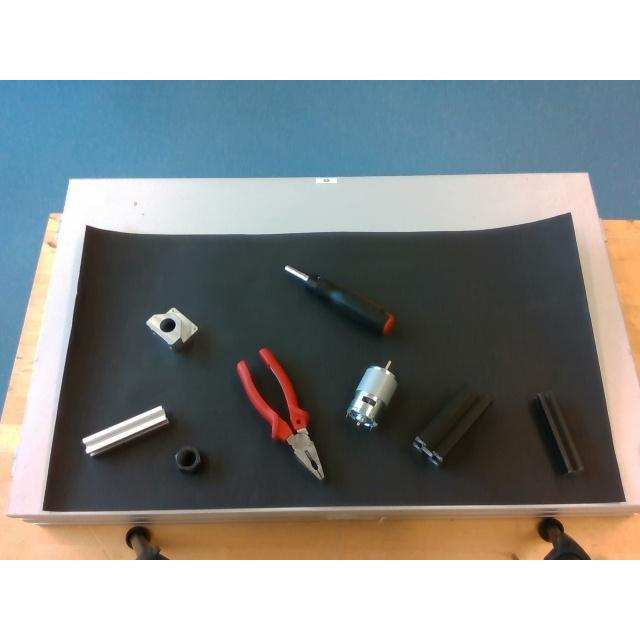F20_20_B: (537, 391, 583, 473)
F20_20_G: (82, 406, 168, 454)
M20: (174, 446, 202, 470)
Motor2: (347, 361, 398, 429)
S40_40_B: (413, 385, 493, 465)
